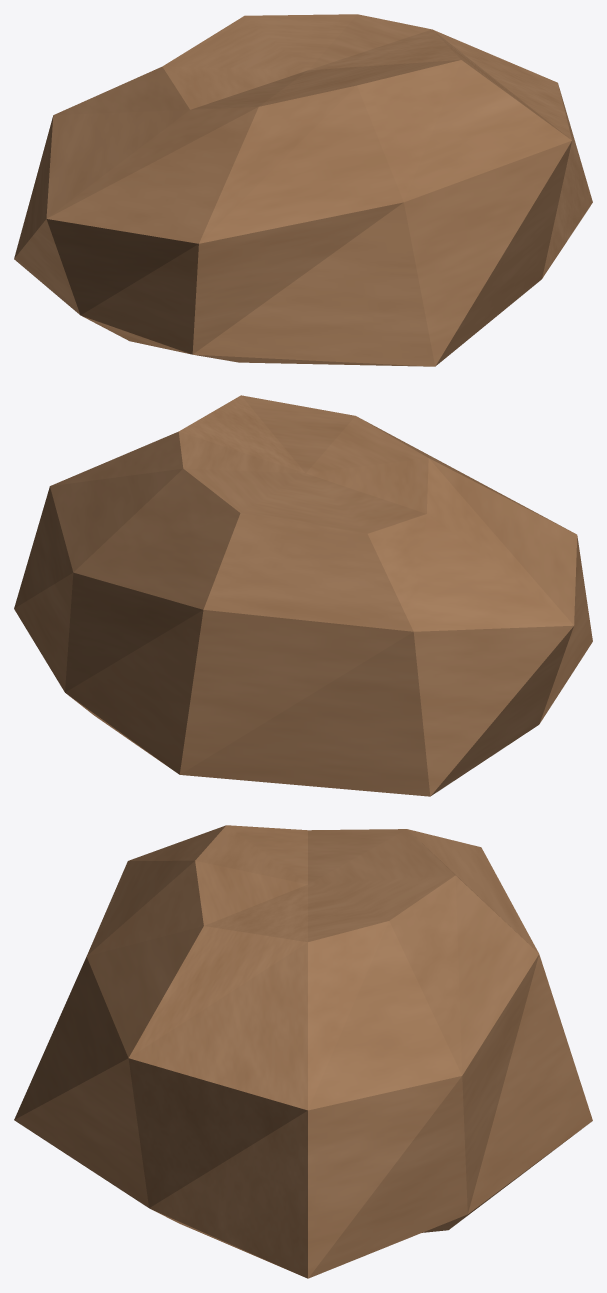
File: SM_CN_Sandstone_A_LOD1.glb
3 renders of one model, top to bottom at view 1: azimuth 30°, elevation 25°; view 2: azimuth 150°, elevation 25°; view 3: azimuth 270°, elevation 25°, orthographic. The views are drawn at different scales.
Visible parts, largest first — view 1: SM_CN_Sandstone_A_LOD1; view 2: SM_CN_Sandstone_A_LOD1; view 3: SM_CN_Sandstone_A_LOD1.
Boxes of the visible parts, x1,y1,x2,y2 form: SM_CN_Sandstone_A_LOD1: (14,14,592,366); SM_CN_Sandstone_A_LOD1: (14,395,592,796); SM_CN_Sandstone_A_LOD1: (14,825,592,1278).
Size of the model in its own units: 1.2 by 0.52 by 0.9508.
1 material, 1 textured.
